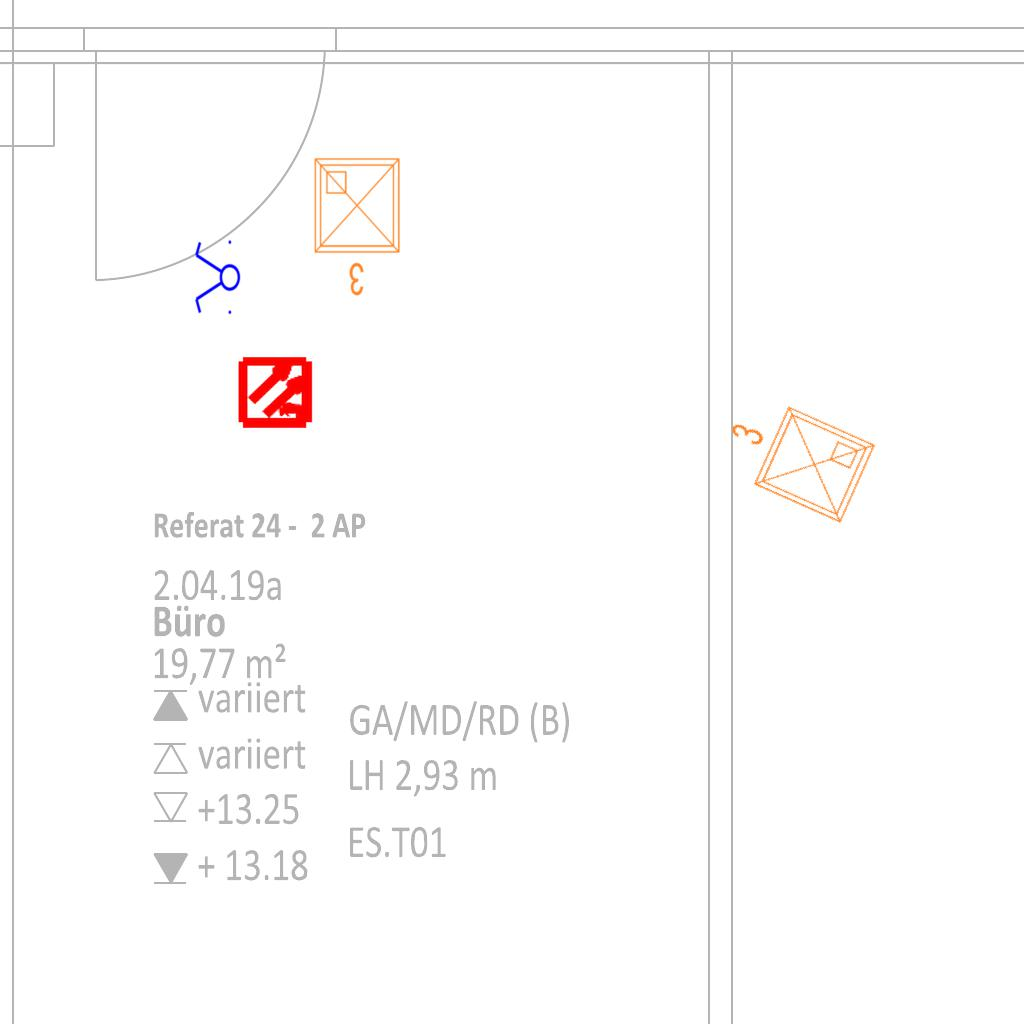Einbaudownlights_LED_Konferenzraeume: (705, 379, 885, 537), (307, 151, 411, 301)
OT_Multisensormelder_(Kombination_RMO_WMD): (221, 336, 334, 449)
Serienschalter: (193, 236, 241, 320)
